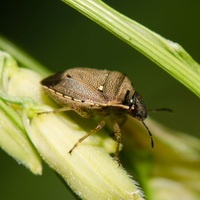insect: (41, 67, 153, 147)
